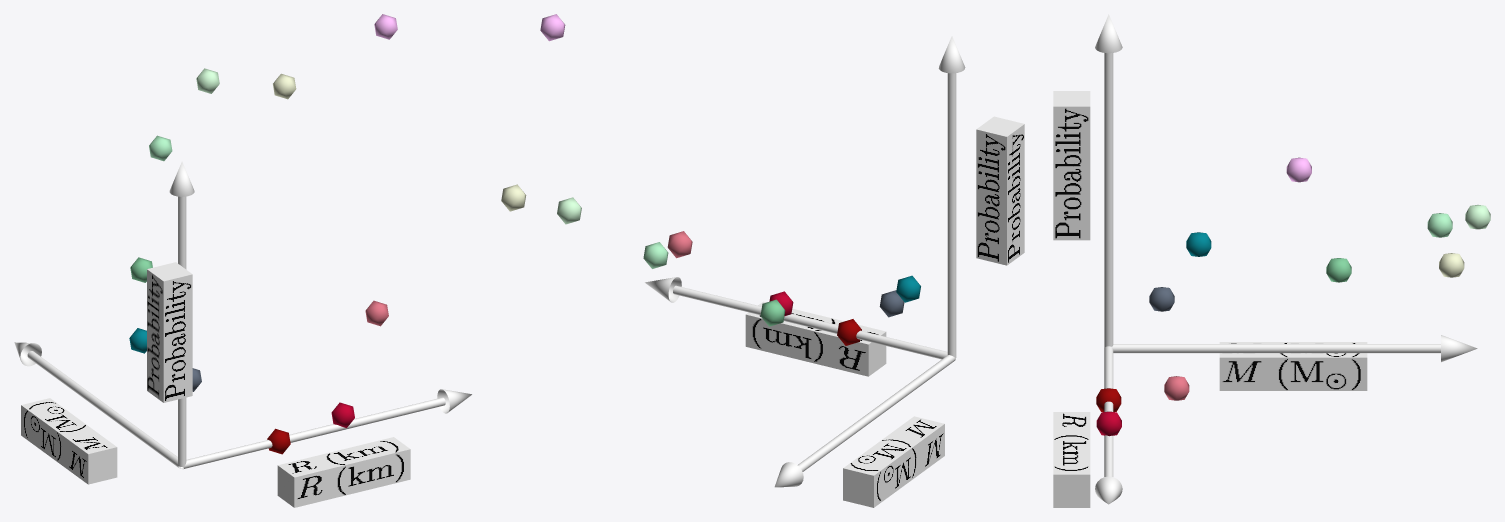
File: scatter_col.gltf
3 renders of one model, left to right at view 1: azimuth 30°, elevation 25°; view 2: azimuth 150°, elevation 25°; view 3: azimuth 270°, elevation 25°, orthographic. The views are drawn at different scales.
Visible parts, largest first — view 1: z_title, x_title, y_title, scatter, x_axis1, y_axis1, z_axis1; view 2: z_title, y_title, x_title, scatter, z_axis1, x_axis1, y_axis1; view 3: y_title, z_title, scatter, y_axis1, x_title, z_axis1, x_axis1.
Boxes of the visible parts, left/top/right/bottom form: z_title: left=147, top=262, right=192, bottom=402; x_title: left=277, top=437, right=410, bottom=507; y_title: left=21, top=398, right=117, bottom=484; scatter: left=129, top=14, right=397, bottom=454; x_axis1: left=181, top=389, right=471, bottom=469; y_axis1: left=14, top=342, right=183, bottom=468; z_axis1: left=169, top=161, right=194, bottom=466; z_title: left=976, top=116, right=1024, bottom=265; y_title: left=843, top=416, right=944, bottom=507; x_title: left=745, top=301, right=886, bottom=376; scatter: left=501, top=14, right=920, bottom=345; z_axis1: left=938, top=36, right=965, bottom=357; x_axis1: left=645, top=277, right=947, bottom=359; y_axis1: left=774, top=355, right=955, bottom=487; y_title: left=1219, top=342, right=1367, bottom=390; z_title: left=1053, top=91, right=1090, bottom=240; scatter: left=1096, top=157, right=1490, bottom=436; y_axis1: left=1112, top=335, right=1477, bottom=362; x_title: left=1053, top=412, right=1090, bottom=507; z_axis1: left=1095, top=14, right=1122, bottom=347; x_axis1: left=1095, top=346, right=1122, bottom=504.
Bounding box in the file's own units: 1.18 × 1.18 × 1.18.
Materials: 14 (3 with a texture image).
